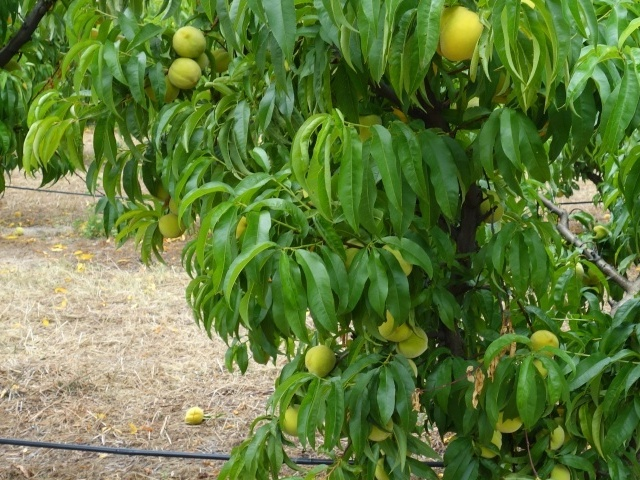peach: (434, 0, 490, 66), (374, 304, 413, 347), (167, 24, 209, 61), (165, 54, 204, 92), (470, 423, 508, 460), (489, 404, 526, 440), (302, 342, 337, 380), (396, 324, 430, 361), (525, 326, 561, 360), (365, 409, 398, 445), (276, 402, 304, 439), (155, 209, 186, 240), (205, 44, 233, 76), (537, 424, 568, 452), (164, 191, 185, 222)
